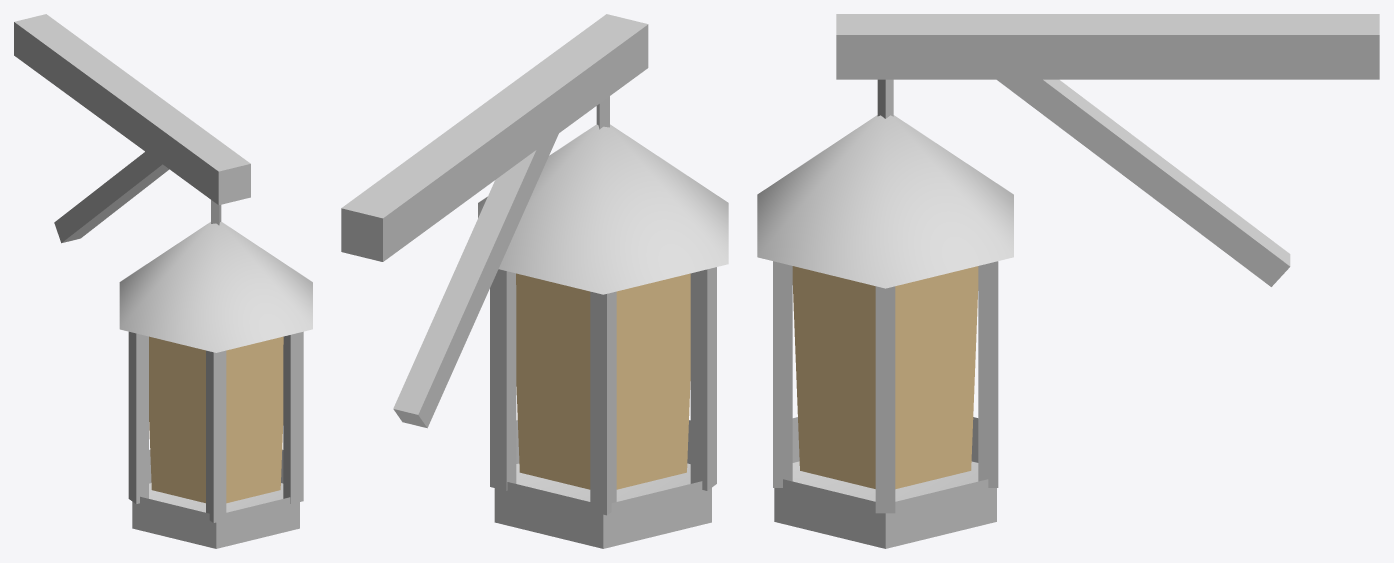
Rendered from lantern_hanging.glb.
3 views of the same model, side by side, from view 1: azimuth 30°, elevation 25°; view 2: azimuth 150°, elevation 25°; view 3: azimuth 270°, elevation 25° (orthographic). The views are drawn at different scales.
Parts seen in each view (by area): view 1: lantern_hanging; view 2: lantern_hanging; view 3: lantern_hanging.
Part boxes in pixels (left/top/right/bottom): lantern_hanging: left=14, top=14, right=312, bottom=548; lantern_hanging: left=341, top=14, right=728, bottom=548; lantern_hanging: left=757, top=14, right=1379, bottom=548.
Bounding box in the file's own units: 0.3 × 0.545 × 0.6299.
